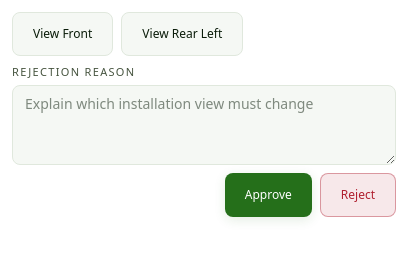
Scenario: InstallationReviewActions evidence viewer › reports a visible failure when the server refuses the governed read
This screenshot has width=413, height=263.
What coordinates should you click on to do the following:
click the button "View front"
I would click on:
 (63, 34)
Its box is [12,12,113,56].
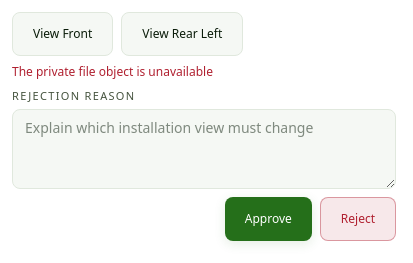
Check: the message reads "The private file object is unavailable", box [12,63,213,80]
